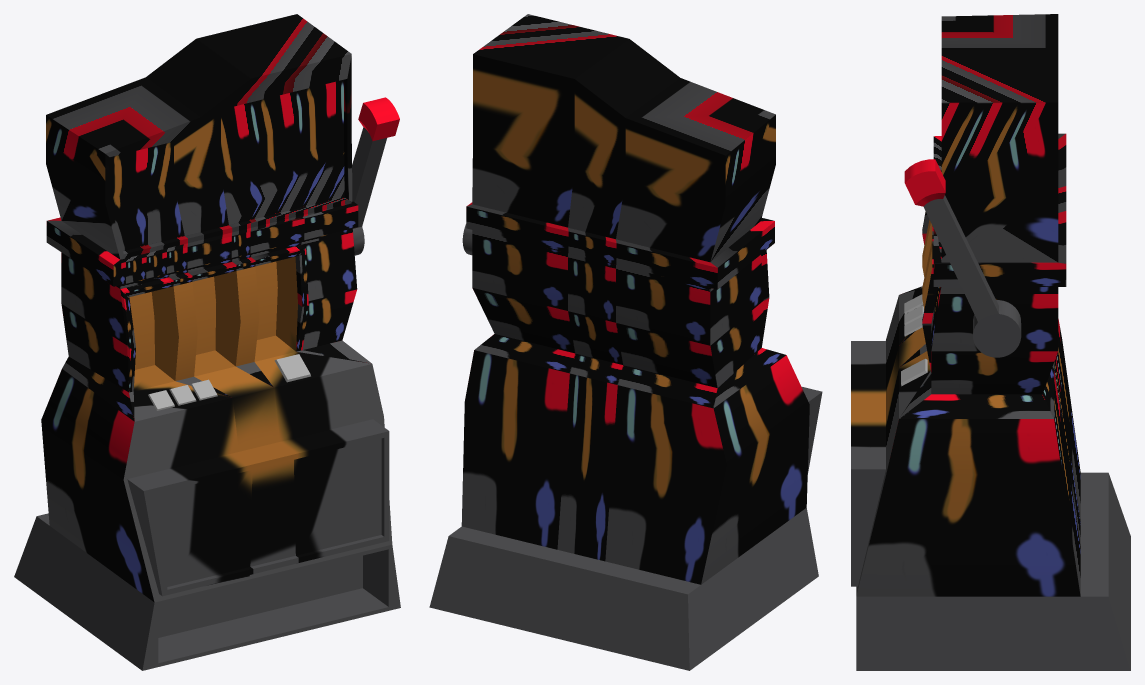
File: SlotMachine.fbx
3 renders of one model, left to right at view 1: azimuth 30°, elevation 25°; view 2: azimuth 150°, elevation 25°; view 3: azimuth 270°, elevation 25°, orthographic. The views are drawn at different scales.
Visible parts, largest first — view 1: Machine_LP, Handle_LP, SM_Button_B; view 2: Machine_LP; view 3: Machine_LP, Handle_LP, SM_Button_B.
Part boxes in pixels (x1,y1,x2,y2): Machine_LP: [14, 14, 400, 670]; Handle_LP: [352, 97, 399, 255]; SM_Button_B: [274, 354, 310, 382]; Machine_LP: [429, 14, 822, 670]; Machine_LP: [851, 14, 1130, 670]; Handle_LP: [904, 159, 1021, 357]; SM_Button_B: [901, 358, 927, 386].
Bounding box in the file's own units: 344 × 608 × 274.
Materials: 2 (1 with a texture image).
